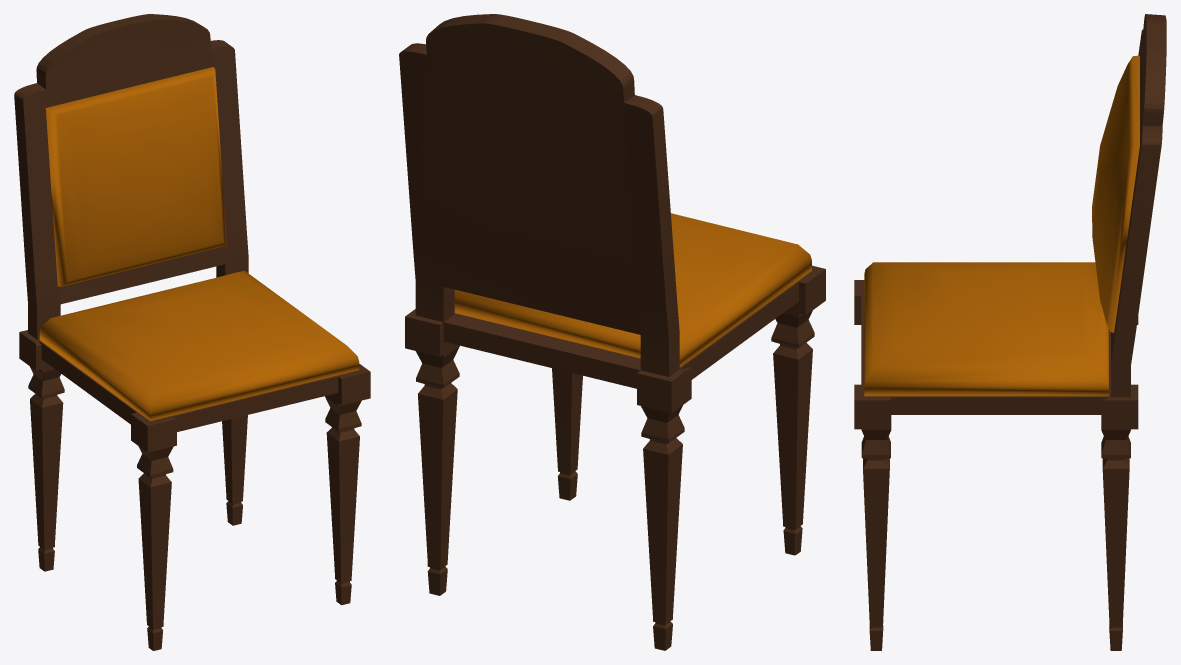
Rendered from M_ChaiseBoisJaune.fbx.
3 views of the same model, side by side, from view 1: azimuth 30°, elevation 25°; view 2: azimuth 150°, elevation 25°; view 3: azimuth 270°, elevation 25° (orthographic). The views are drawn at different scales.
Parts seen in each view (by area): view 1: Cube; view 2: Cube; view 3: Cube.
Part boxes in pixels (left/top/right/bottom): Cube: left=14, top=14, right=370, bottom=650; Cube: left=399, top=14, right=825, bottom=650; Cube: left=854, top=14, right=1166, bottom=650.
Bounding box in the file's own units: 316 × 691 × 347.
